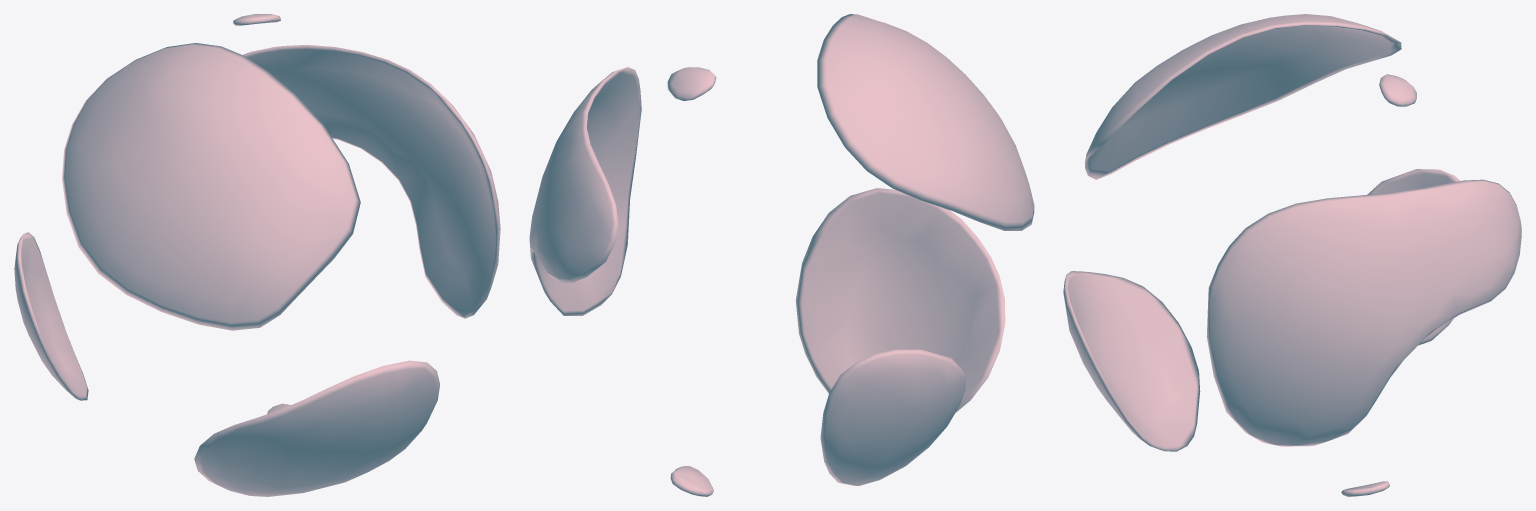
The model's file is Planet_Acc_B_Continents.fbx.
The picture shows the model from 3 angles, left to right: view 1: azimuth 30°, elevation 25°; view 2: azimuth 150°, elevation 25°; view 3: azimuth 270°, elevation 25°; orthographic projection. The views are drawn at different scales.
Visible parts, largest first — view 1: Big_ContinentsNew; view 2: Big_ContinentsNew; view 3: Big_ContinentsNew.
Part boxes in pixels (x1=…): Big_ContinentsNew: x1=14, y1=14, x2=500, y2=496; Big_ContinentsNew: x1=529, y1=14, x2=1034, y2=496; Big_ContinentsNew: x1=1063, y1=14, x2=1521, y2=496.
Size of the model in its own units: 1.99 by 1.99 by 1.93.
